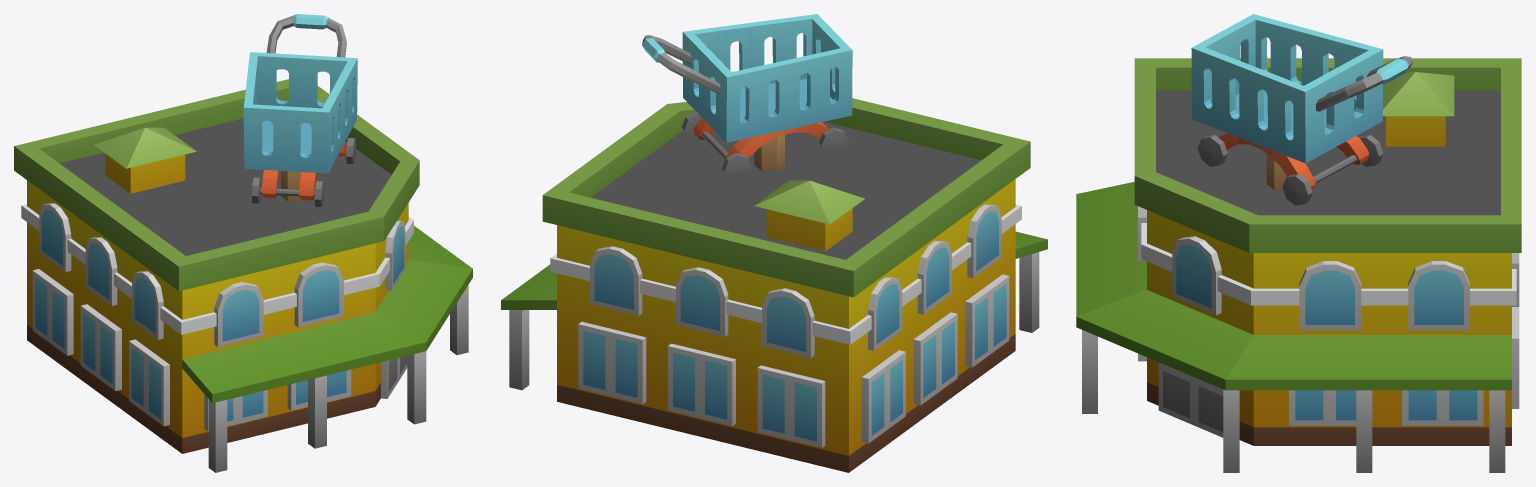
The model's file is supermarket house.fbx.
The picture shows the model from 3 angles, left to right: view 1: azimuth 30°, elevation 25°; view 2: azimuth 150°, elevation 25°; view 3: azimuth 270°, elevation 25°; orthographic projection. The views are drawn at different scales.
Visible parts, largest first — view 1: supermarket_house; view 2: supermarket_house; view 3: supermarket_house.
Part boxes in pixels (box(x1,y1,x2,y2)): supermarket_house: box(14, 14, 472, 472); supermarket_house: box(501, 14, 1047, 472); supermarket_house: box(1076, 14, 1521, 472).
Size of the model in its own units: 905 by 793 by 894.
Materials: 1 (1 with a texture image).
